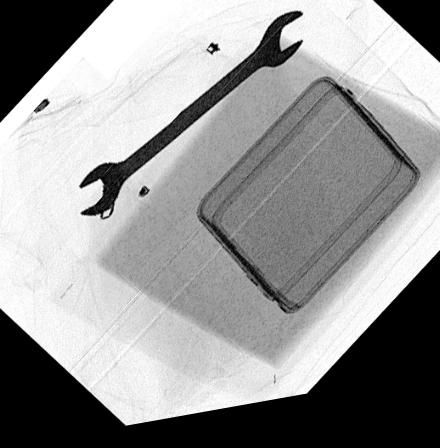Wrench: (75, 21, 306, 221)
